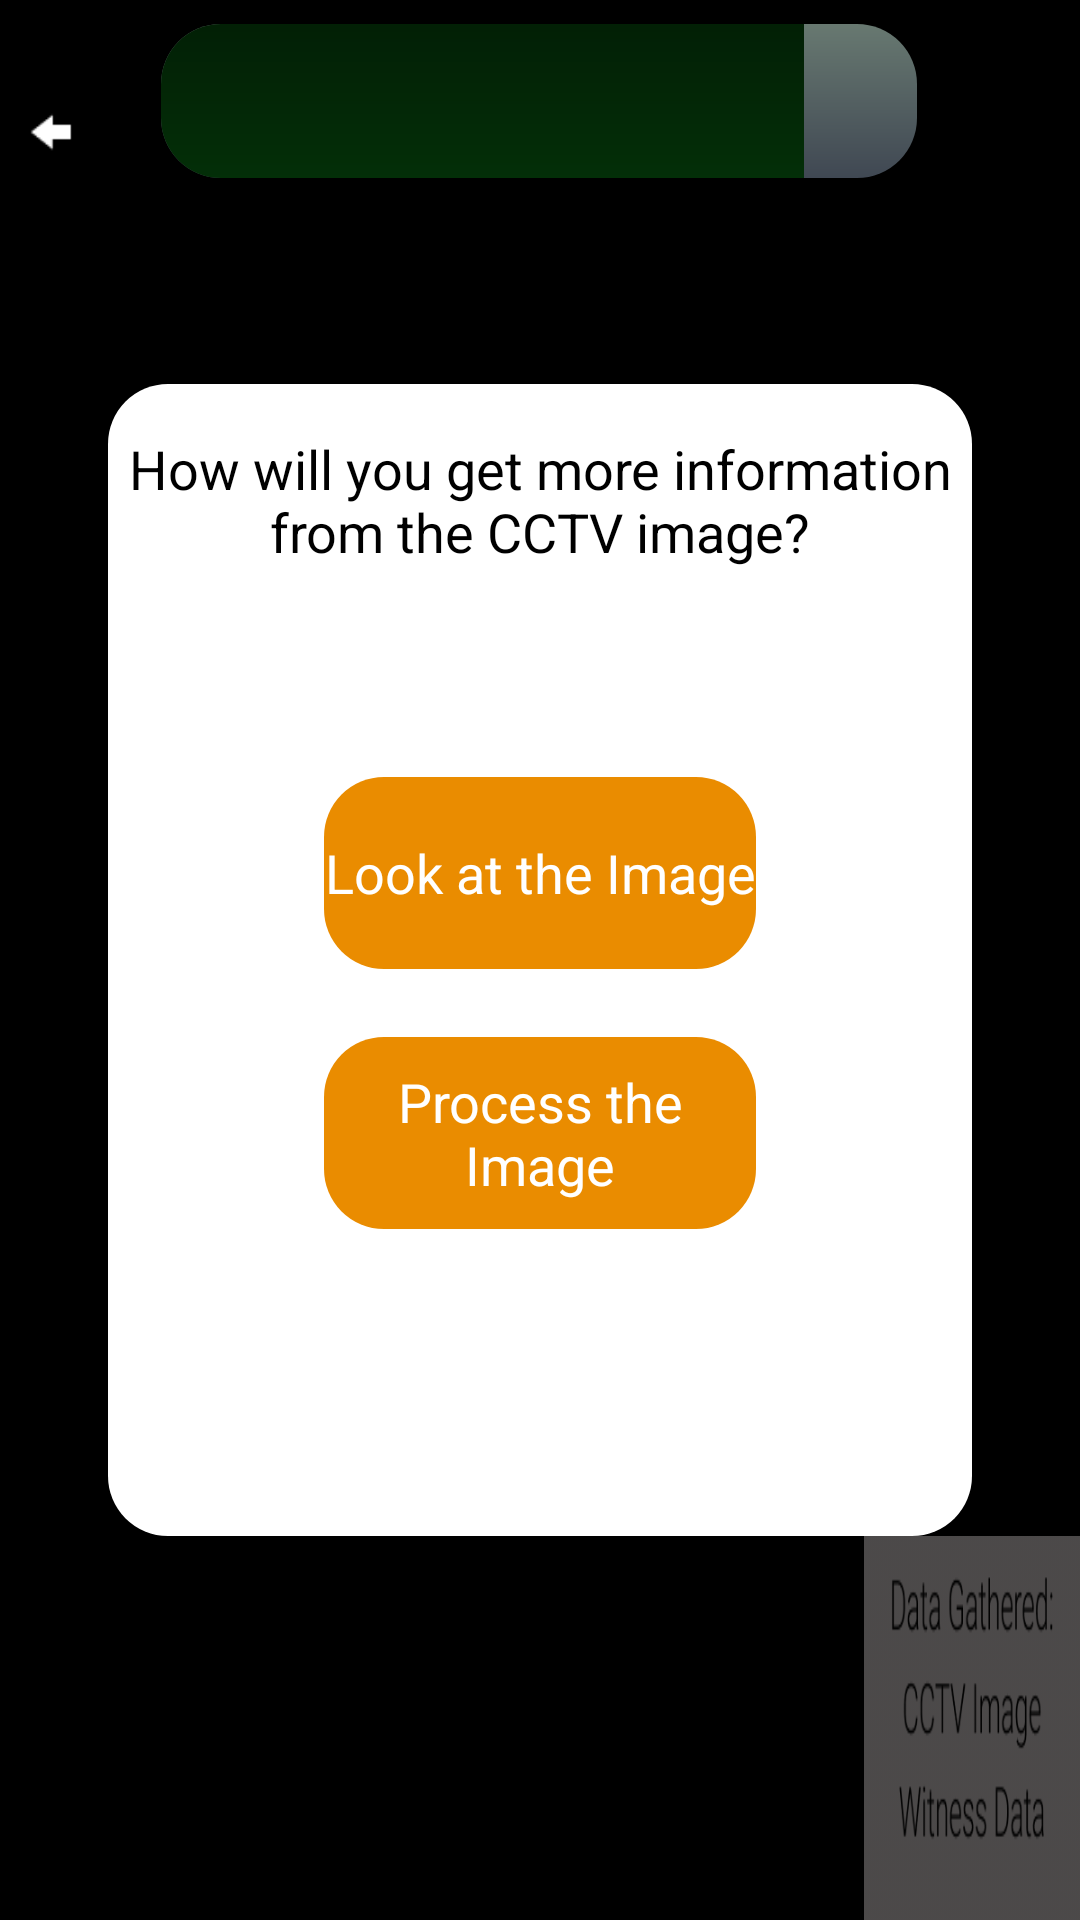

Icon click points for this 1080*1920 phone screenshot, format point (x, y):
barrow: point (51, 132)
